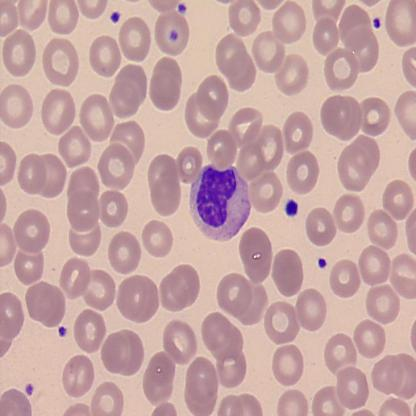Metamyelocyte: (185, 159, 253, 244)
